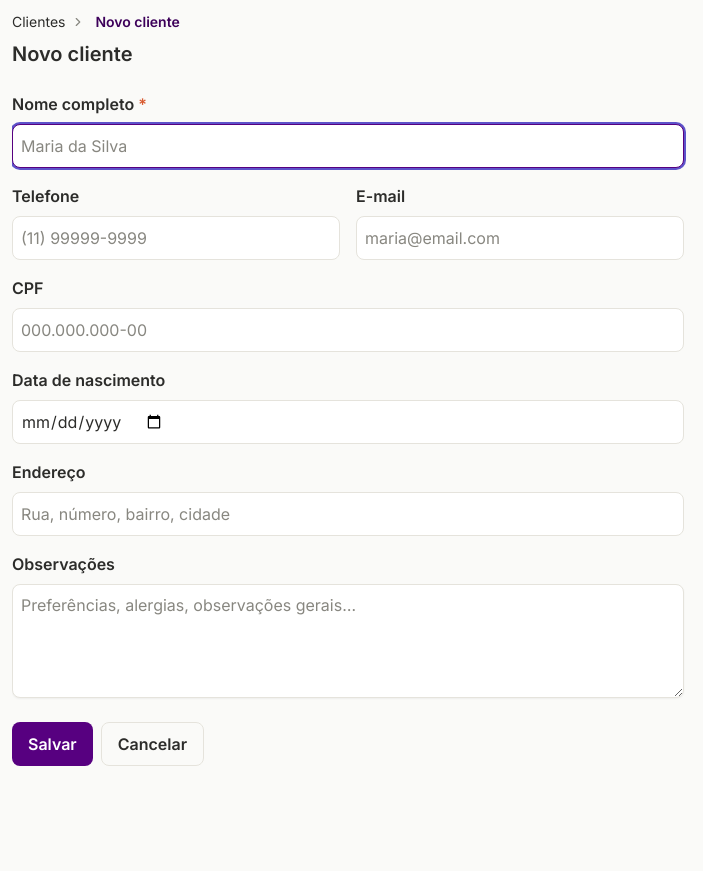
ClientForm › shows validation errors when submitting empty form (fullName + contact required)
Click the button "Salvar" at (52, 744), box top-left (12, 722), bottom-right (93, 766)
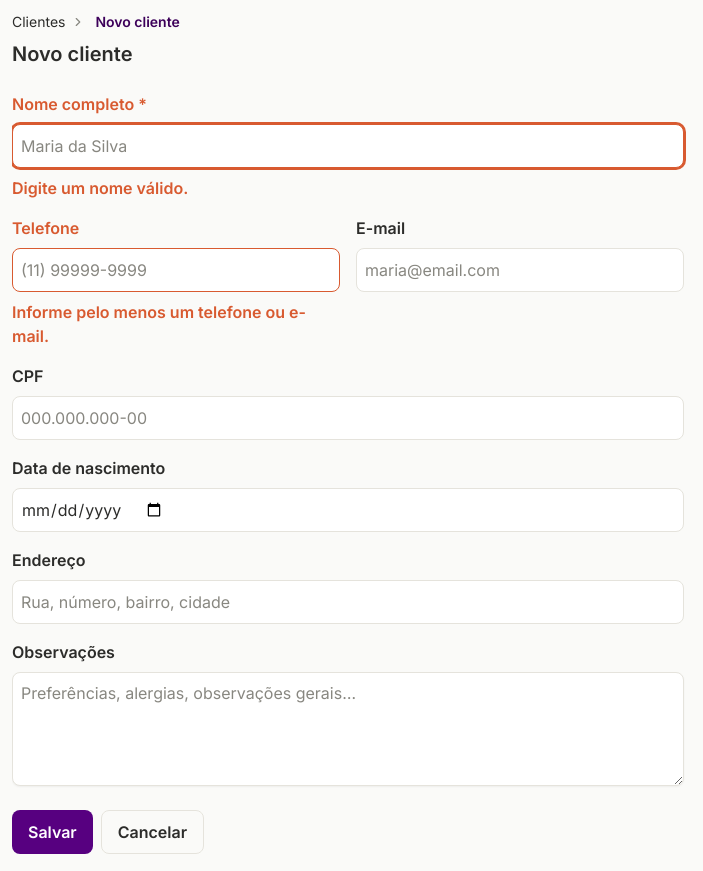
Result: the text "Digite um nome válido." is shown at top-left (12, 178), bottom-right (188, 198)
